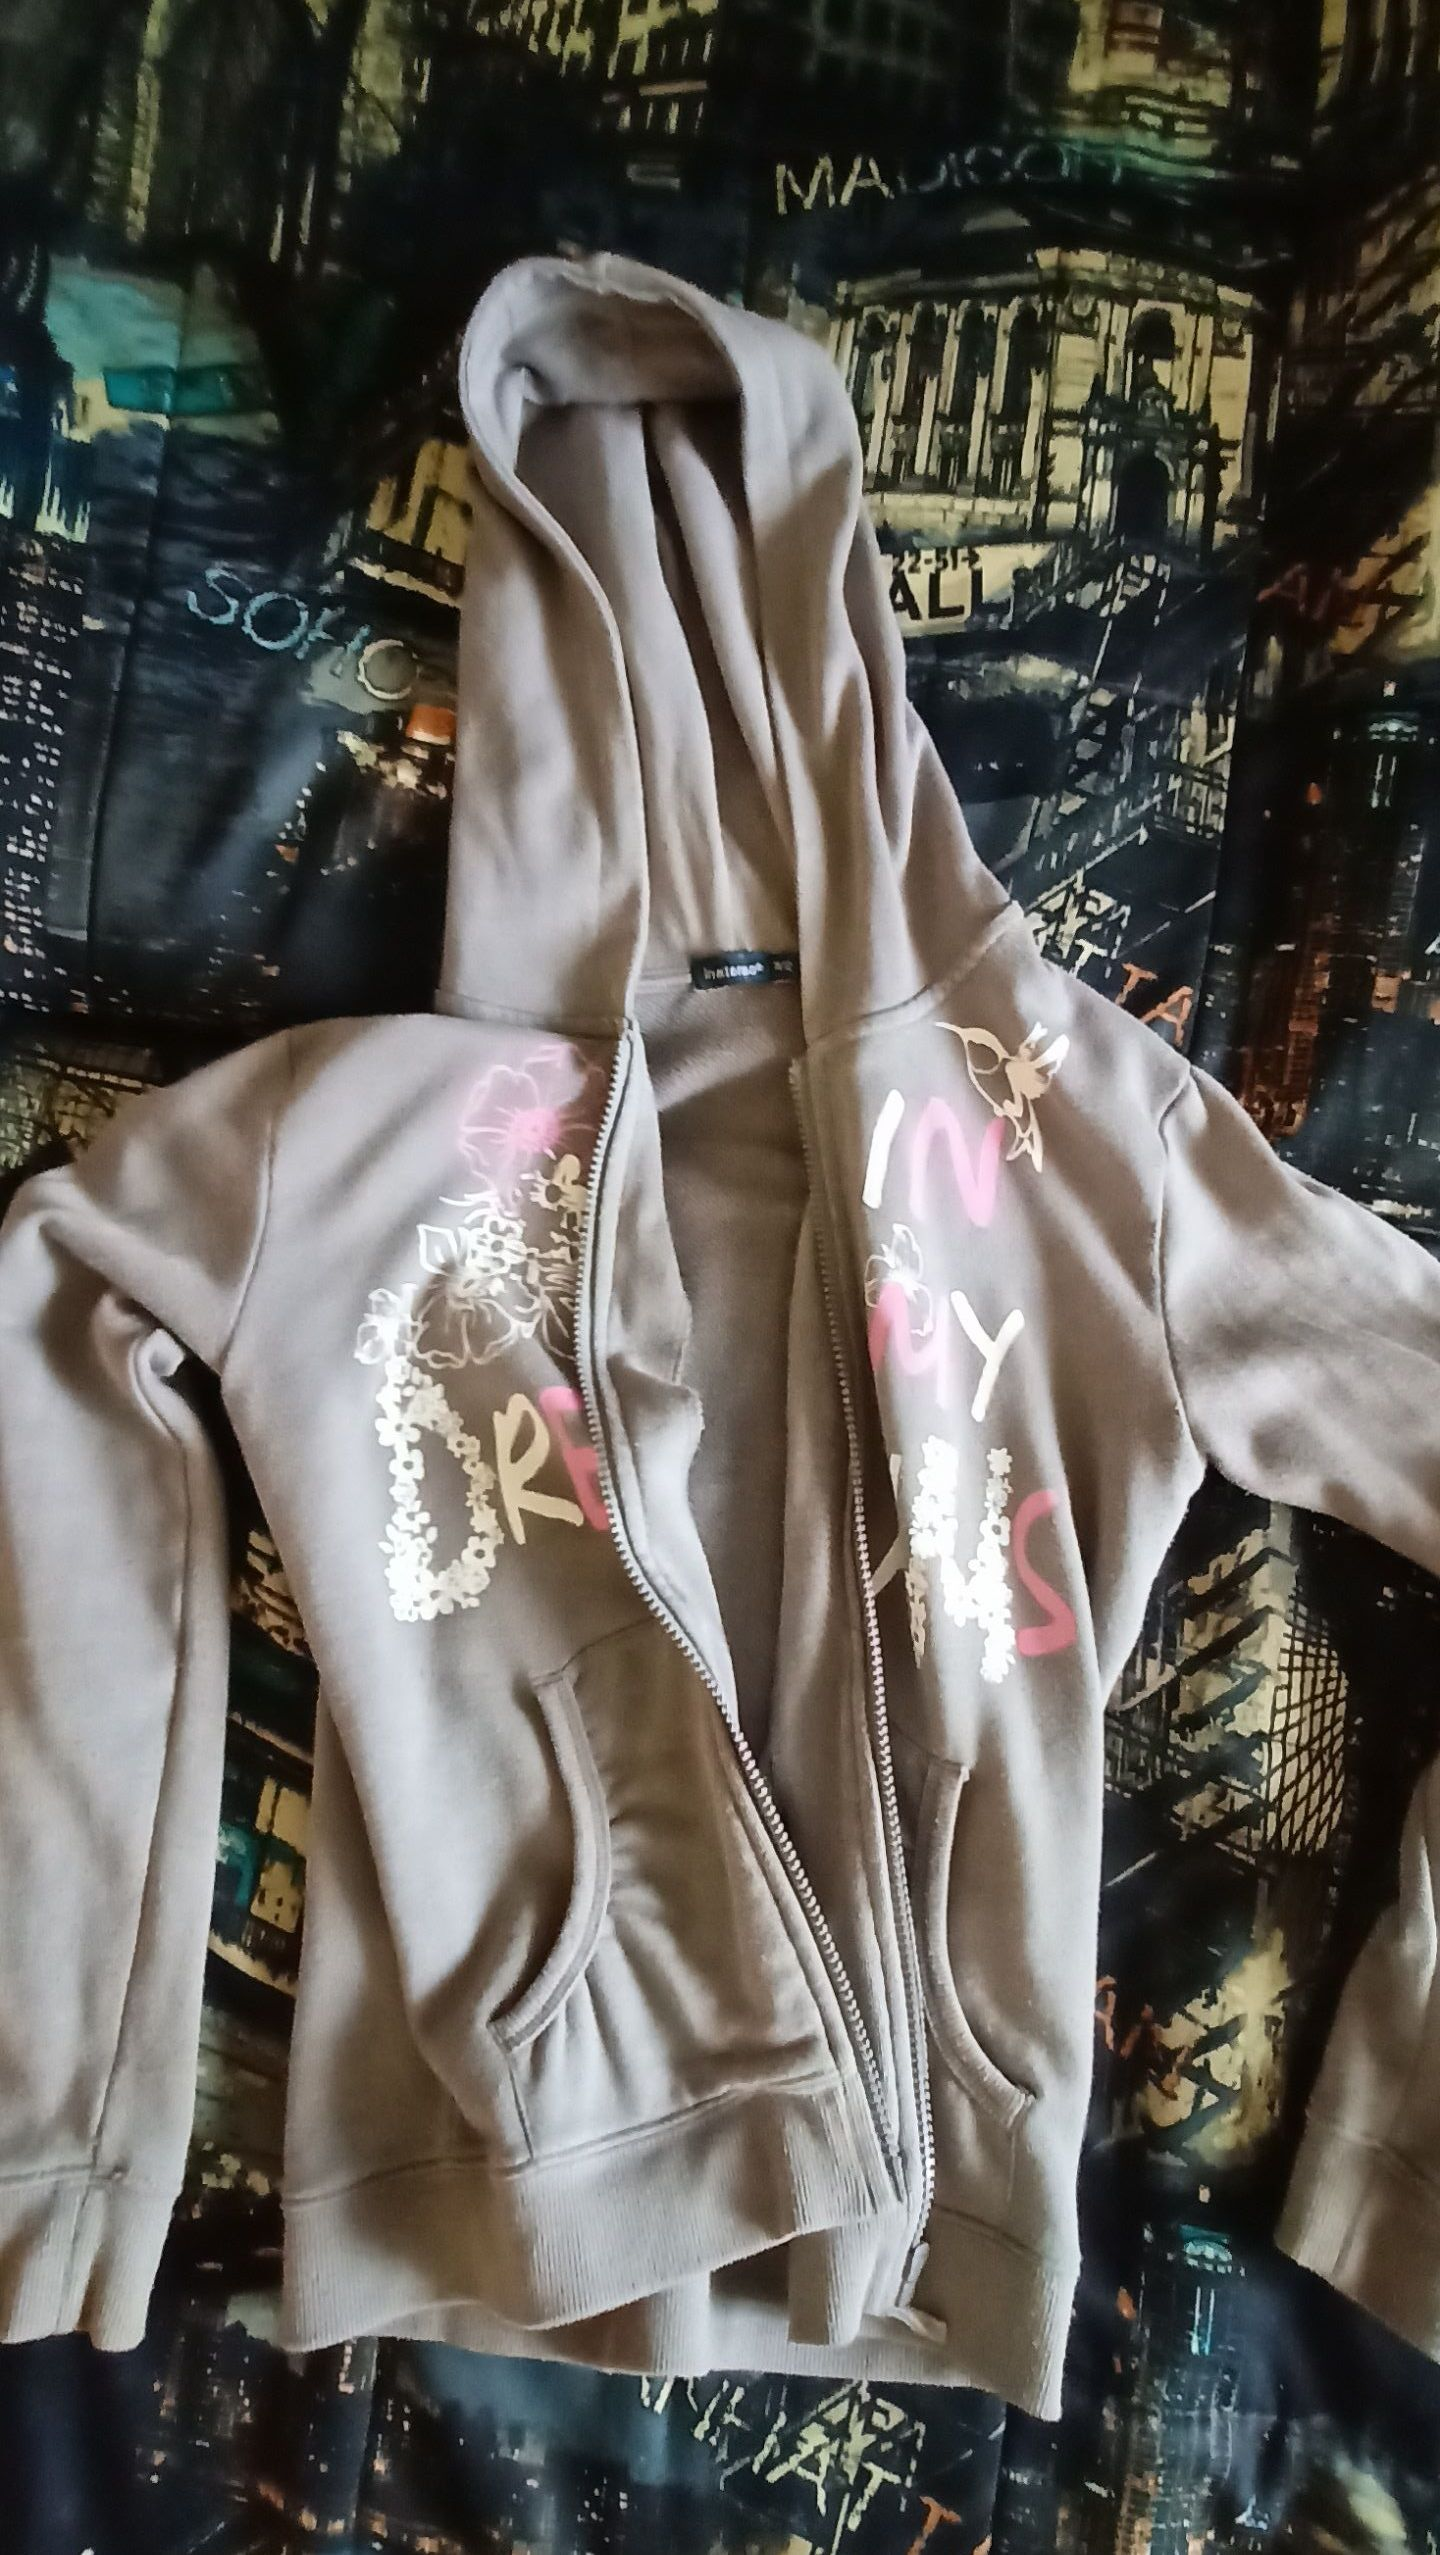clothes: (12, 202, 1440, 2436)
